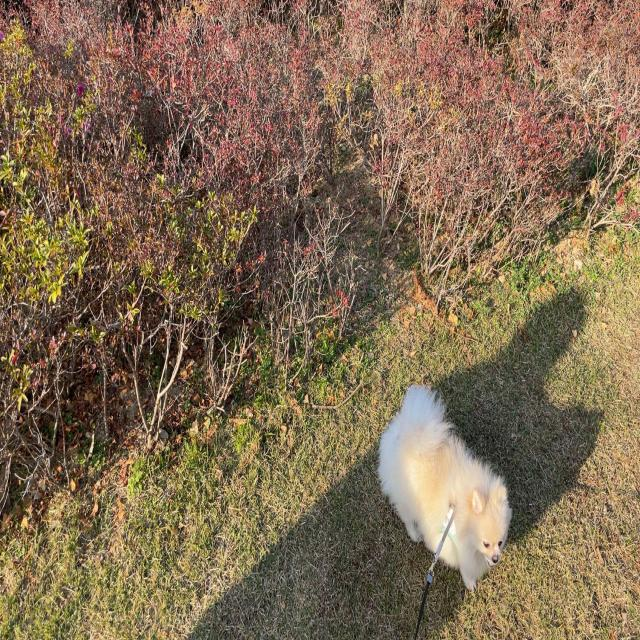Dog: (378, 382, 513, 594)
